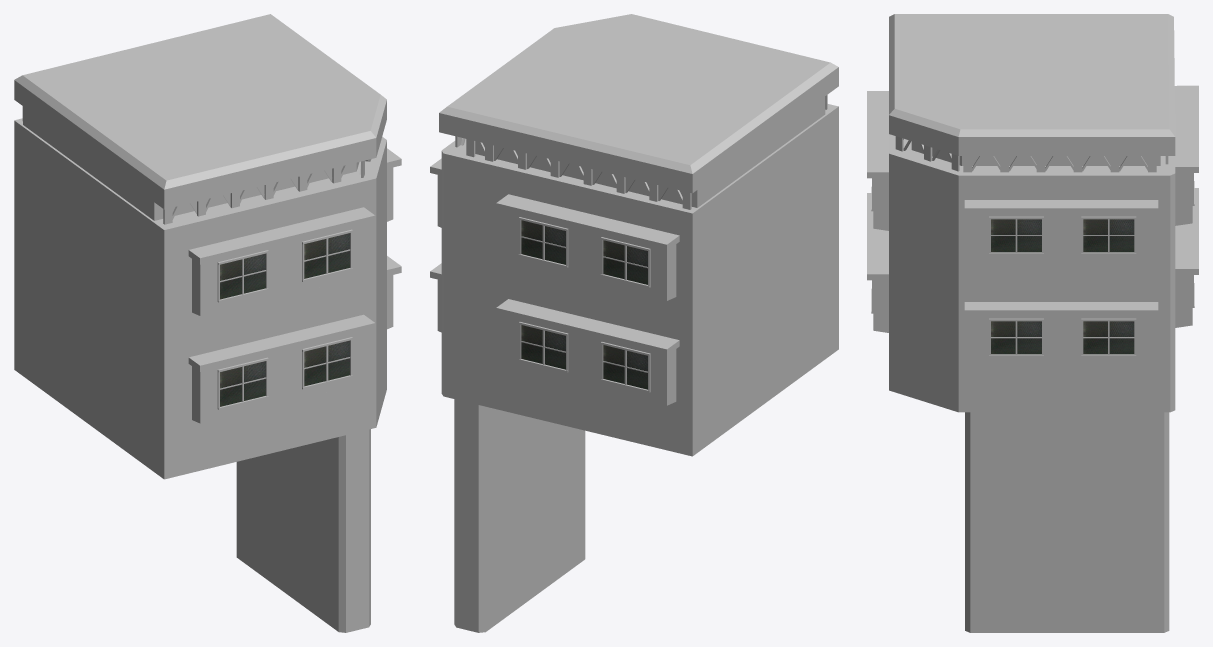
The model's file is bldg_mall_06b.fbx.
The picture shows the model from 3 angles, left to right: view 1: azimuth 30°, elevation 25°; view 2: azimuth 150°, elevation 25°; view 3: azimuth 270°, elevation 25°; orthographic projection. The views are drawn at different scales.
Visible parts, largest first — view 1: bldg_mall_06b; view 2: bldg_mall_06b; view 3: bldg_mall_06b.
Boxes of the visible parts, x1,y1,x2,y2 form: bldg_mall_06b: [14, 14, 401, 632]; bldg_mall_06b: [430, 14, 838, 632]; bldg_mall_06b: [867, 14, 1198, 632].
Size of the model in its own units: 8.92 by 16.35 by 9.72.
